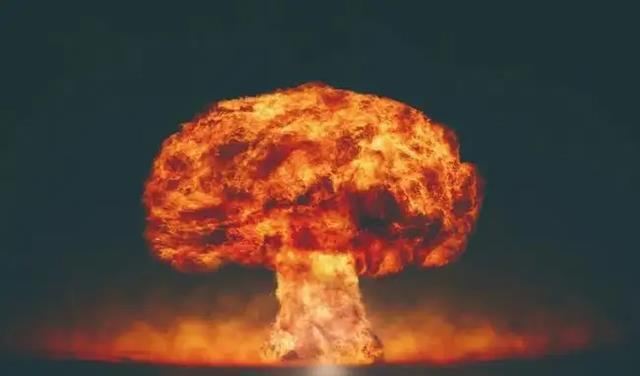fire: (129, 74, 483, 371)
